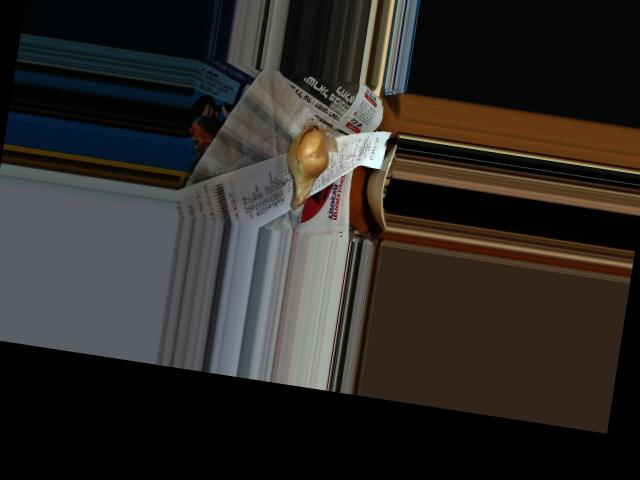onion: (277, 123, 333, 210)
